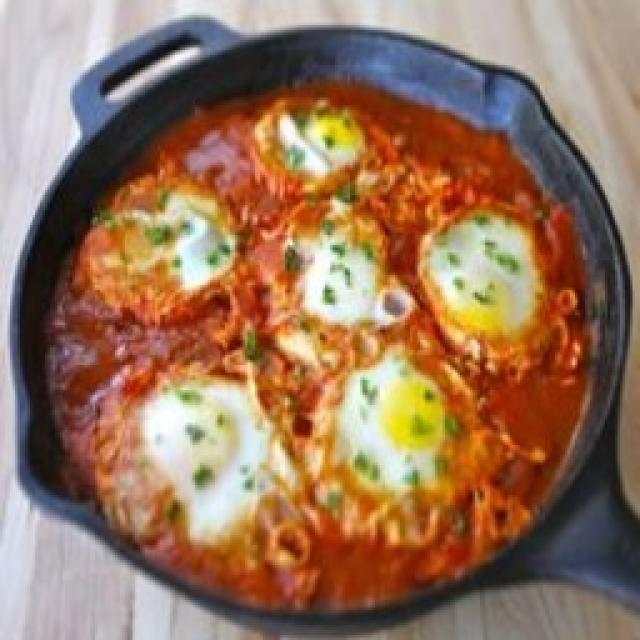Chakchouka: (8, 55, 630, 620)
